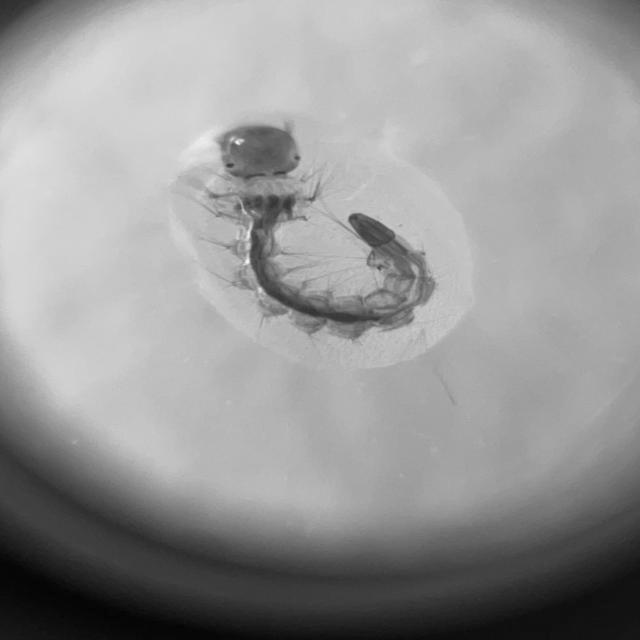larvas: (222, 125, 428, 335)
